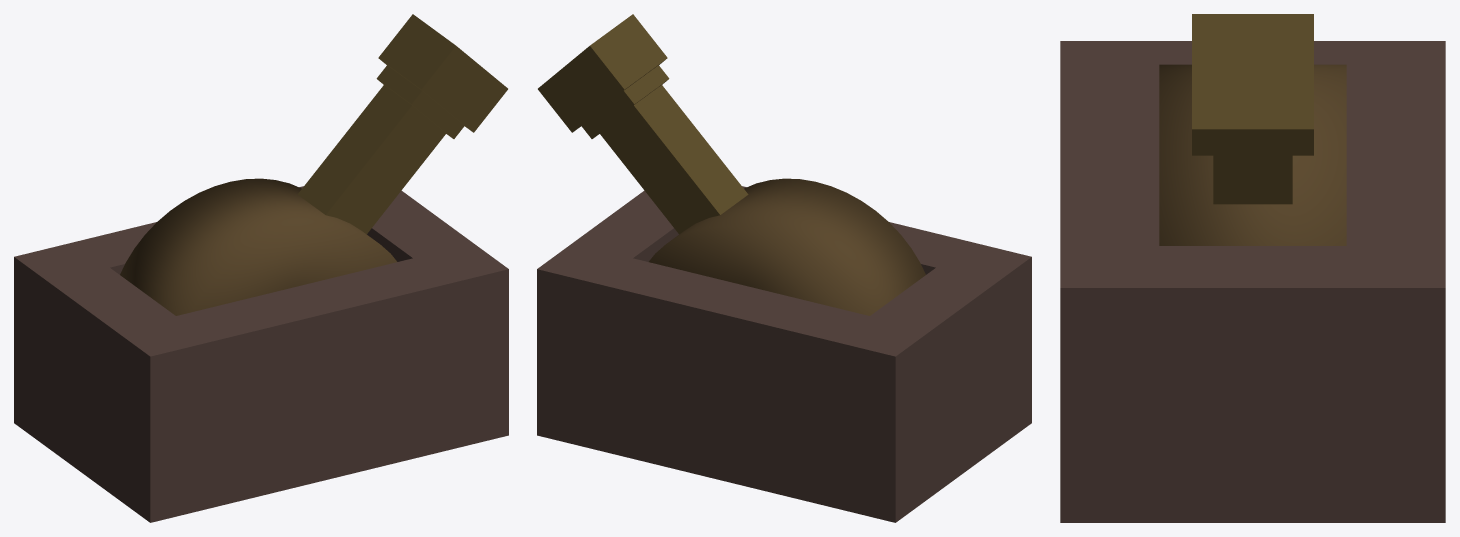
The model's file is alavanca botar cores.fbx.
3 views of the same model, side by side, from view 1: azimuth 30°, elevation 25°; view 2: azimuth 150°, elevation 25°; view 3: azimuth 270°, elevation 25° (orthographic). The views are drawn at different scales.
Visible parts, largest first — view 1: Cube.001, Cube; view 2: Cube.001, Cube; view 3: Cube.001, Cube.
Boxes of the visible parts, box(x1,y1,x2,y2) form: Cube.001: box(14, 178, 508, 522); Cube: box(297, 14, 507, 234); Cube.001: box(537, 178, 1031, 522); Cube: box(538, 14, 748, 234); Cube.001: box(1060, 41, 1445, 522); Cube: box(1192, 14, 1313, 204).
Bounding box in the file's own units: 509 × 430 × 297.
